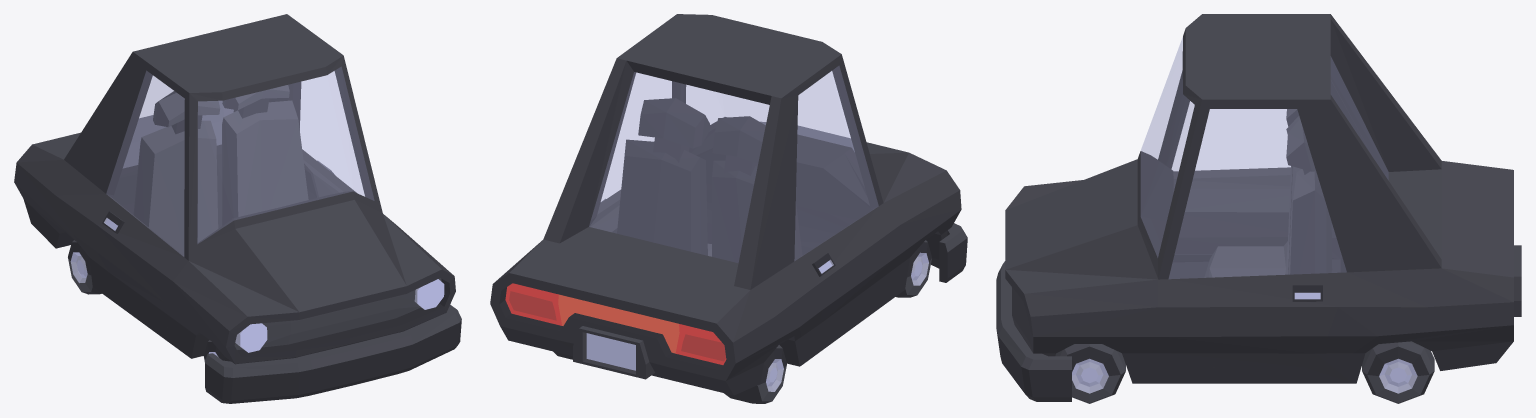
The model's file is sleek-black-compact-cruiser.glb.
3 renders of one model, left to right at view 1: azimuth 30°, elevation 25°; view 2: azimuth 150°, elevation 25°; view 3: azimuth 270°, elevation 25°, orthographic. The views are drawn at different scales.
Visible parts, largest first — view 1: Car03_1, Car03_1_DR, Car03_1_AdF, Car03_1_DL, Car03_1_WhBR; view 2: Car03_1, Car03_1_DR, Car03_1_DL, Car03_1_WhBR, Car03_1_AdF, Car03_1_WhFR; view 3: Car03_1, Car03_1_DL, Car03_1_DR, Car03_1_AdF, Car03_1_WhBL, Car03_1_WhFL.
Boxes of the visible parts, left/top/right/bottom form: Car03_1: left=14, top=14, right=455, bottom=364; Car03_1_DR: left=94, top=71, right=184, bottom=332; Car03_1_AdF: left=205, top=304, right=461, bottom=403; Car03_1_DL: left=300, top=72, right=364, bottom=197; Car03_1_WhBR: left=68, top=240, right=101, bottom=294; Car03_1: left=490, top=14, right=961, bottom=395; Car03_1_DR: left=794, top=66, right=898, bottom=334; Car03_1_DL: left=589, top=73, right=671, bottom=233; Car03_1_WhBR: left=724, top=345, right=786, bottom=403; Car03_1_AdF: left=931, top=223, right=967, bottom=282; Car03_1_WhFR: left=896, top=240, right=931, bottom=297; Car03_1: left=1005, top=14, right=1521, bottom=383; Car03_1_DL: left=1168, top=109, right=1346, bottom=367; Car03_1_DR: left=1172, top=101, right=1290, bottom=253; Car03_1_AdF: left=996, top=261, right=1071, bottom=401; Car03_1_WhBL: left=1362, top=341, right=1434, bottom=403; Car03_1_WhFL: left=1055, top=344, right=1125, bottom=403.
Bounding box in the file's own units: 2.82 × 2.96 × 4.75.
3 materials, 3 textured.
